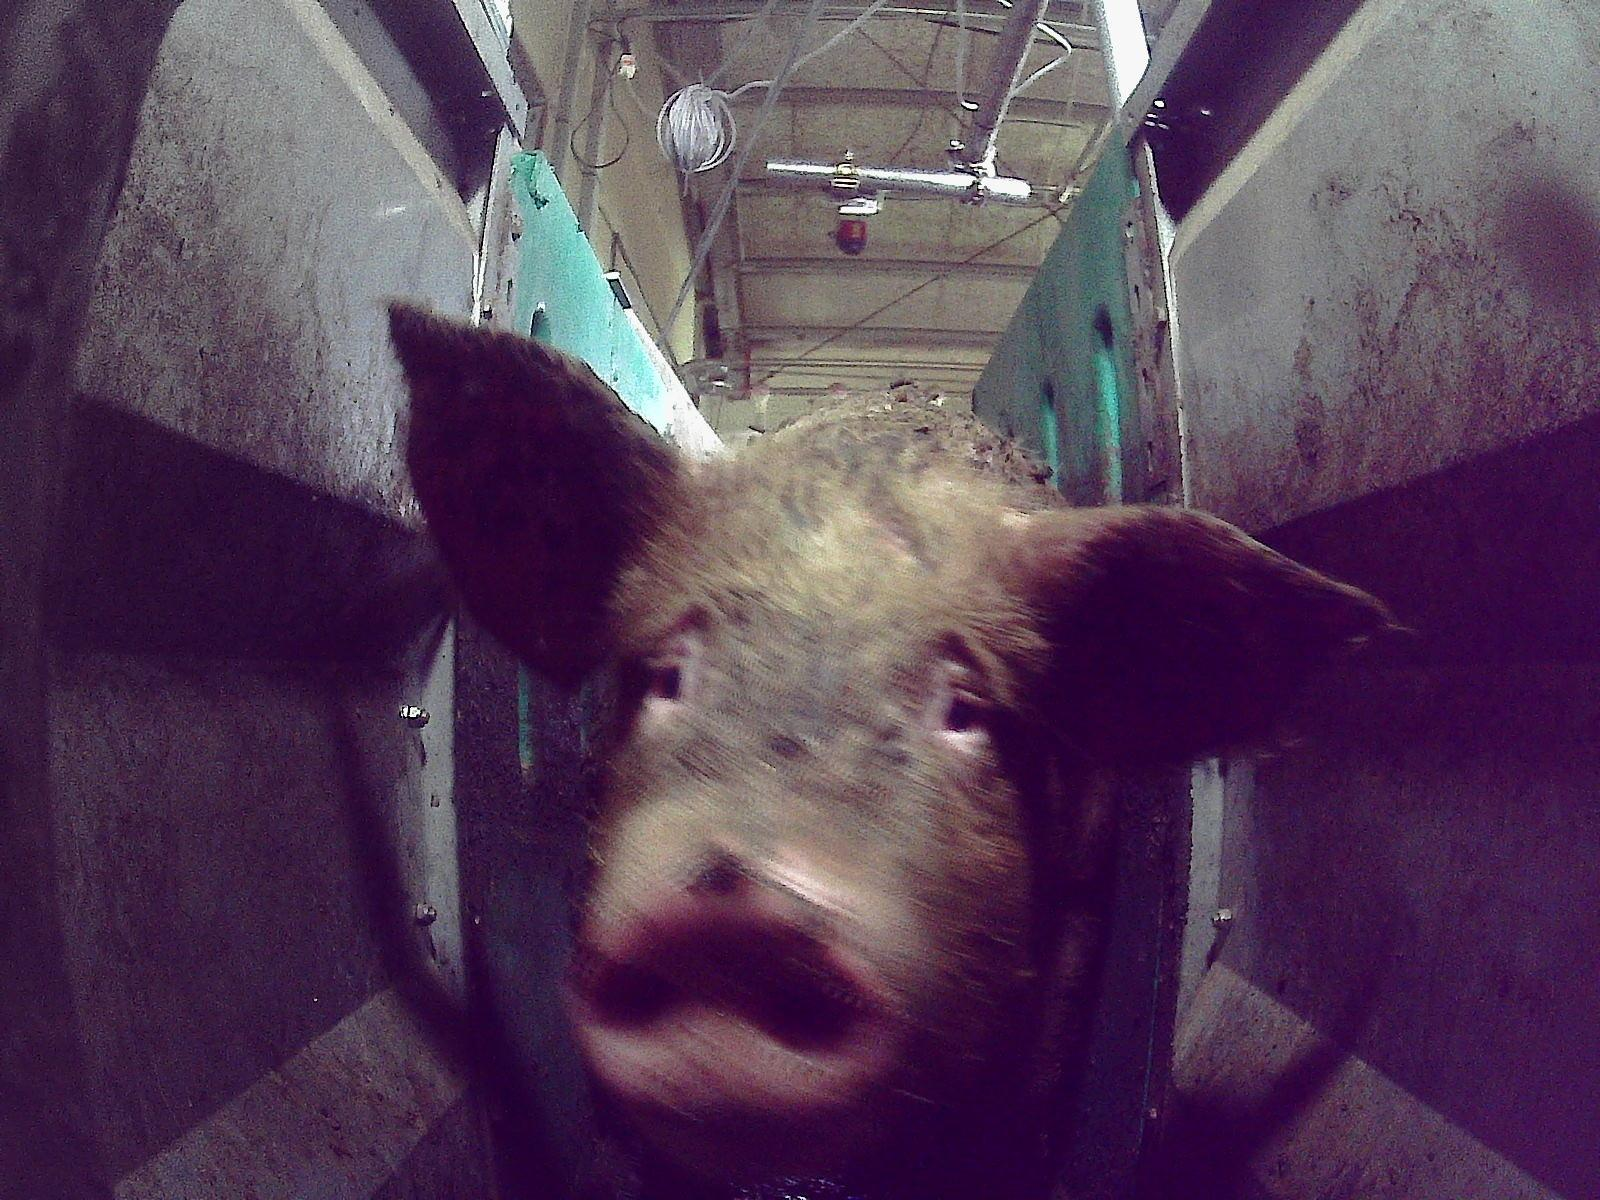Face: (558, 459, 1060, 1186)
